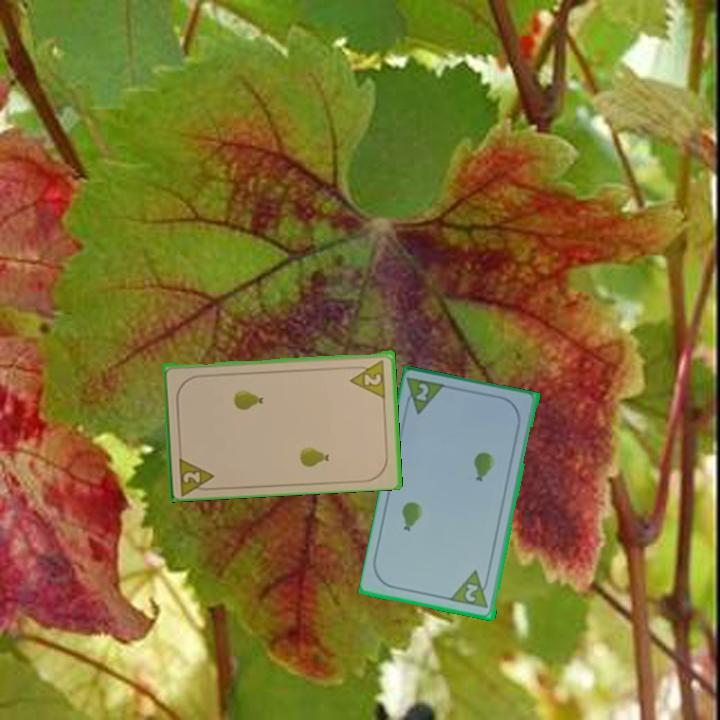2p: (401, 374, 450, 418), (175, 452, 218, 496), (346, 356, 388, 399), (462, 580, 481, 605)
